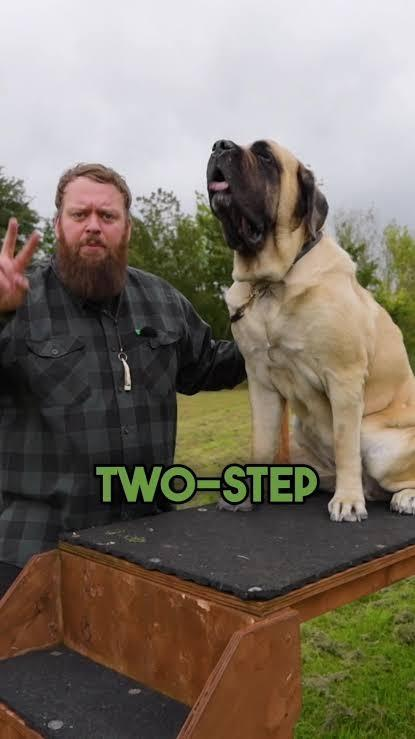adult_dog: (206, 140, 415, 522)
non-dog: (1, 159, 247, 592)
